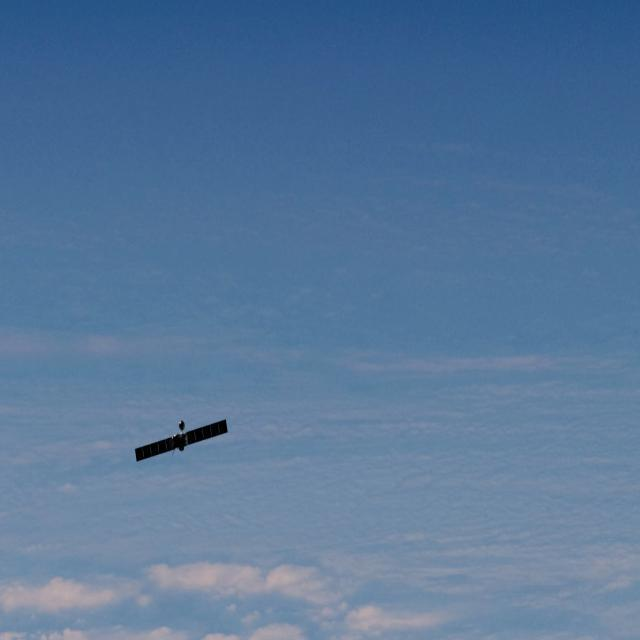satellite: (124, 415, 233, 482)
